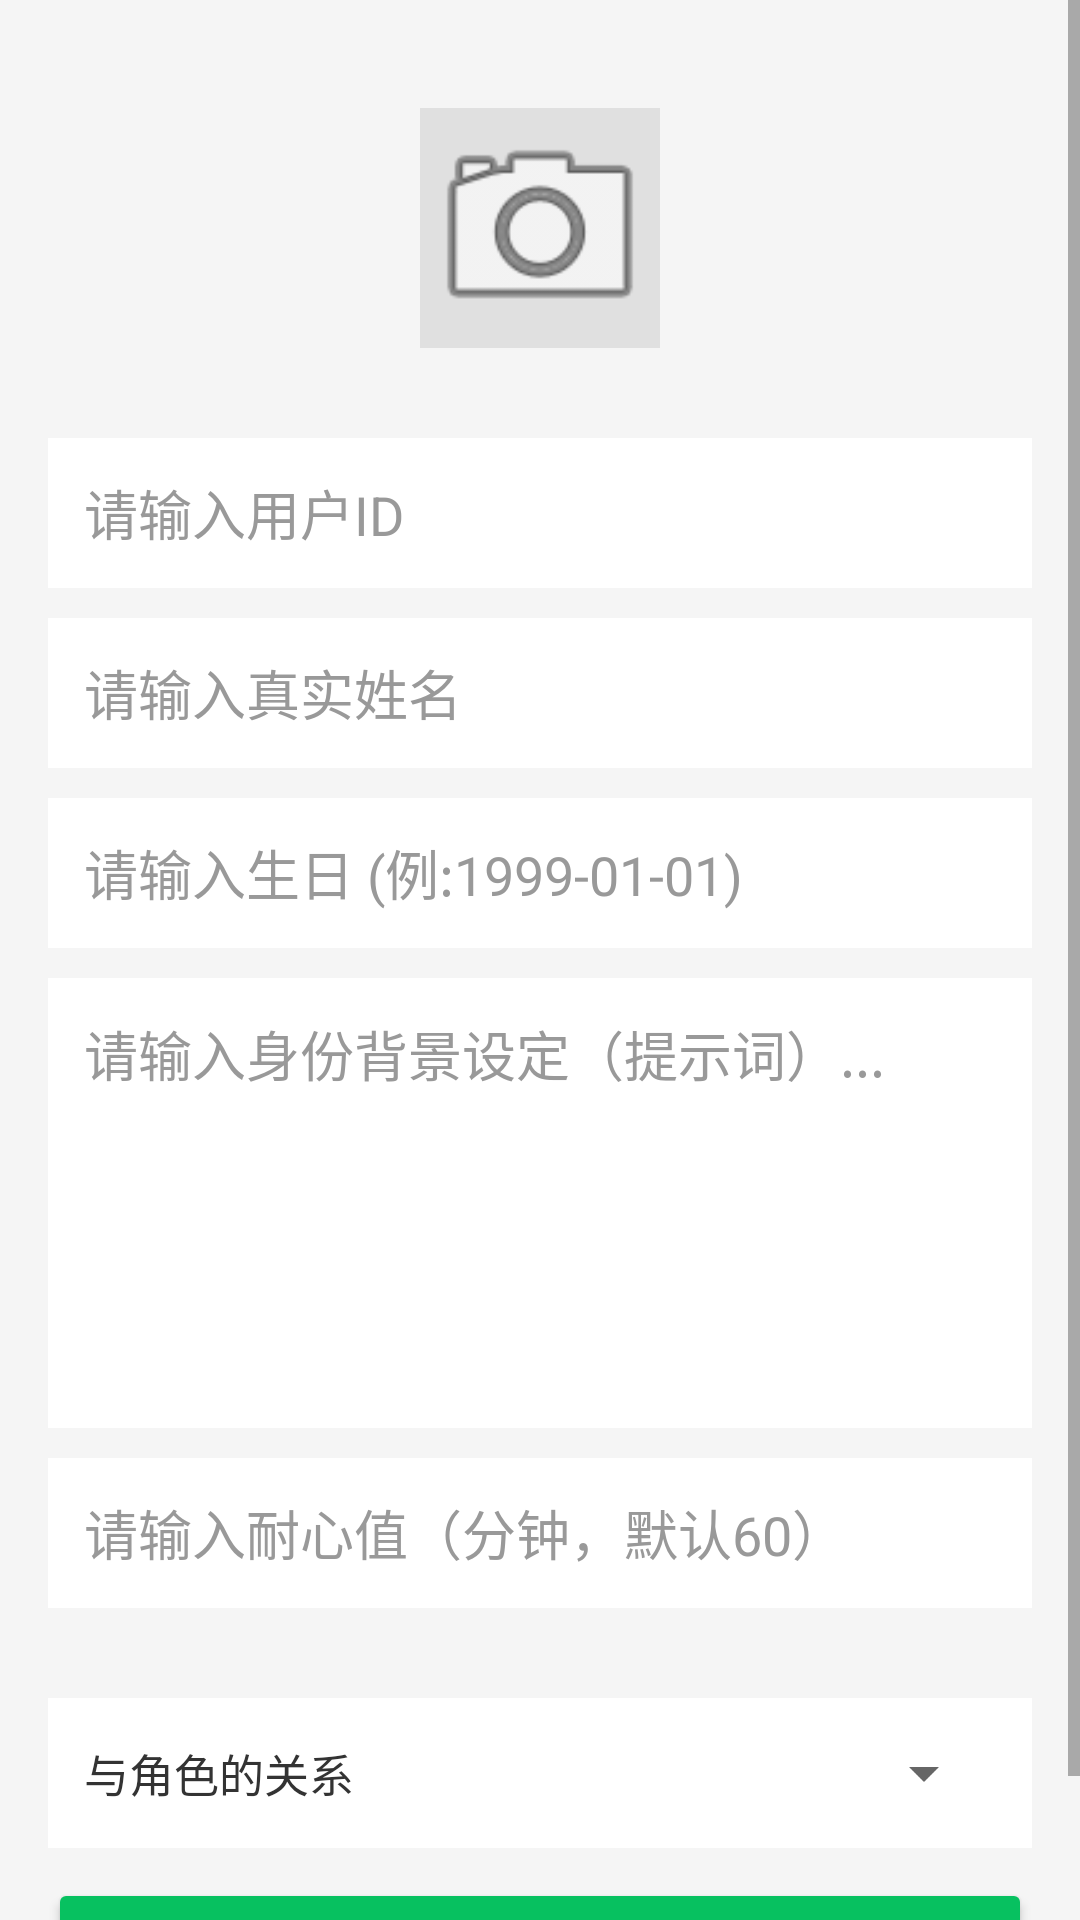

Icon bounding boxes for this 1080 x 1920 phone screenshot, format (left=x1, top=y1, right=x2, bottom=y2):
camera: (left=420, top=108, right=660, bottom=348)
